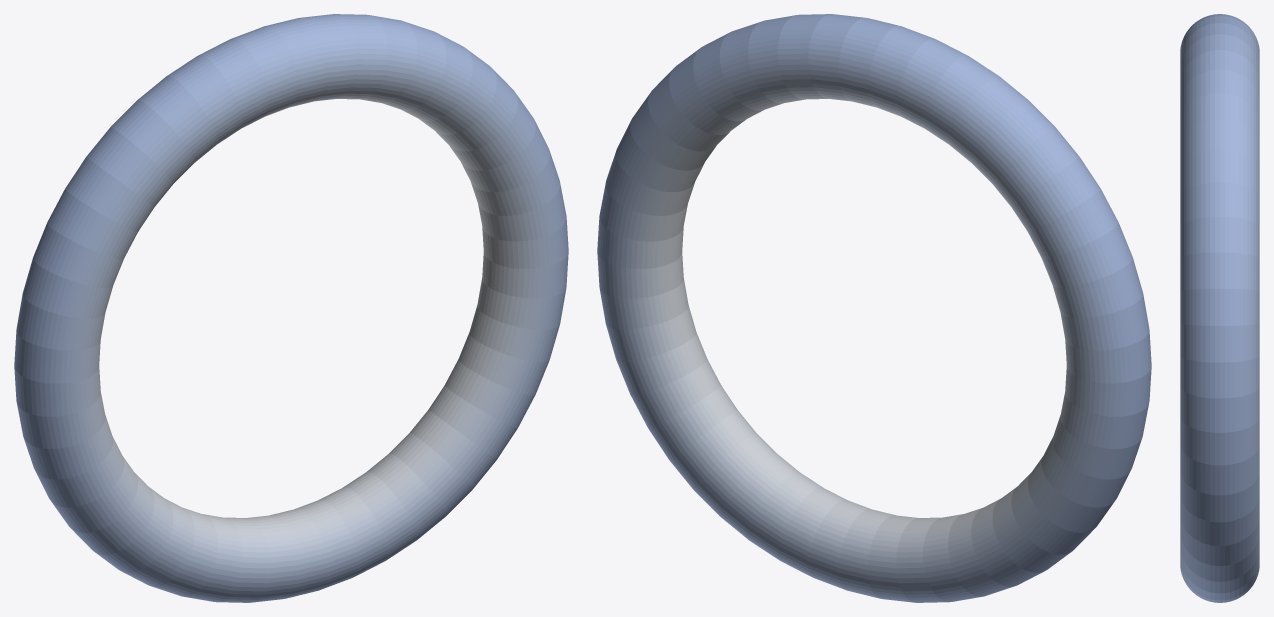
3 views of the same model, side by side, from view 1: azimuth 30°, elevation 25°; view 2: azimuth 150°, elevation 25°; view 3: azimuth 270°, elevation 25° (orthographic). The views are drawn at different scales.
Visible parts, largest first — view 1: world; view 2: world; view 3: world.
Part boxes in pixels (left/top/right/bottom): world: left=14, top=14, right=568, bottom=602; world: left=597, top=14, right=1151, bottom=602; world: left=1180, top=14, right=1259, bottom=602.
Bounding box in the file's own units: 28.53 × 28.48 × 3.86.
